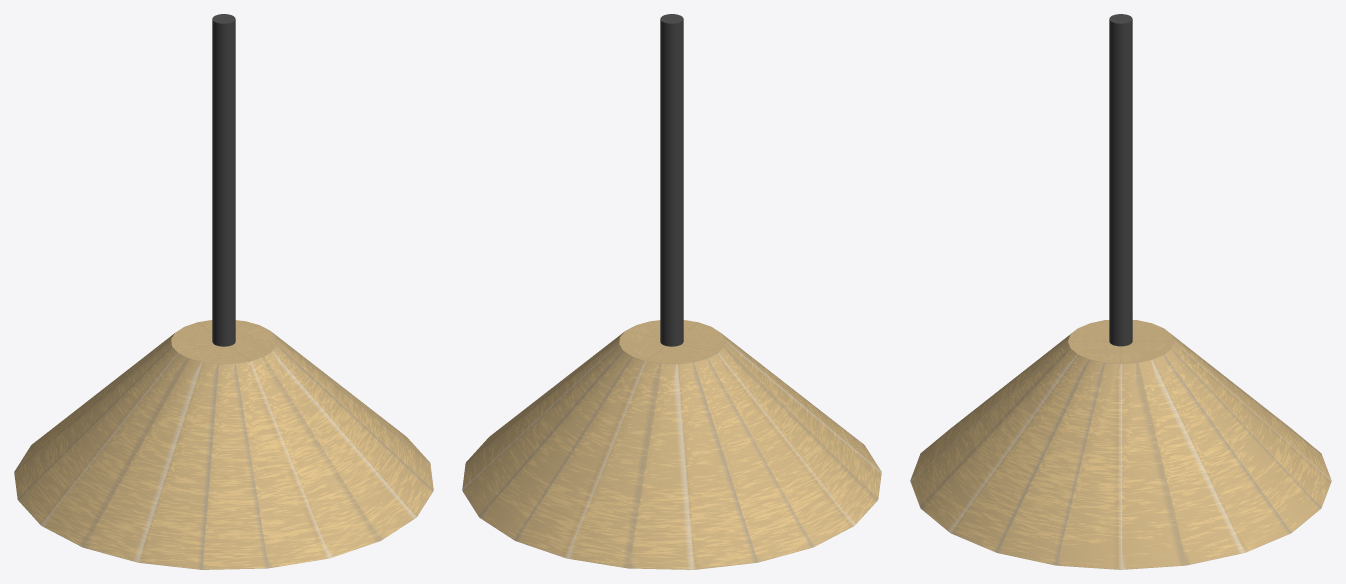
File: TexturedLight.fbx
The picture shows the model from 3 angles, left to right: view 1: azimuth 30°, elevation 25°; view 2: azimuth 150°, elevation 25°; view 3: azimuth 270°, elevation 25°; orthographic projection.
Parts seen in each view (by area): view 1: pCylinder1, pCylinder2; view 2: pCylinder1, pCylinder2; view 3: pCylinder1, pCylinder2.
Part boxes in pixels (x1=…): pCylinder1: x1=14, y1=320, x2=433, y2=569; pCylinder2: x1=212, y1=14, x2=235, y2=346; pCylinder1: x1=462, y1=320, x2=881, y2=569; pCylinder2: x1=660, y1=14, x2=683, y2=346; pCylinder1: x1=910, y1=320, x2=1331, y2=569; pCylinder2: x1=1109, y1=14, x2=1132, y2=346.
Size of the model in its own units: 7.94 by 10.47 by 7.94.
3 materials, 3 textured.
